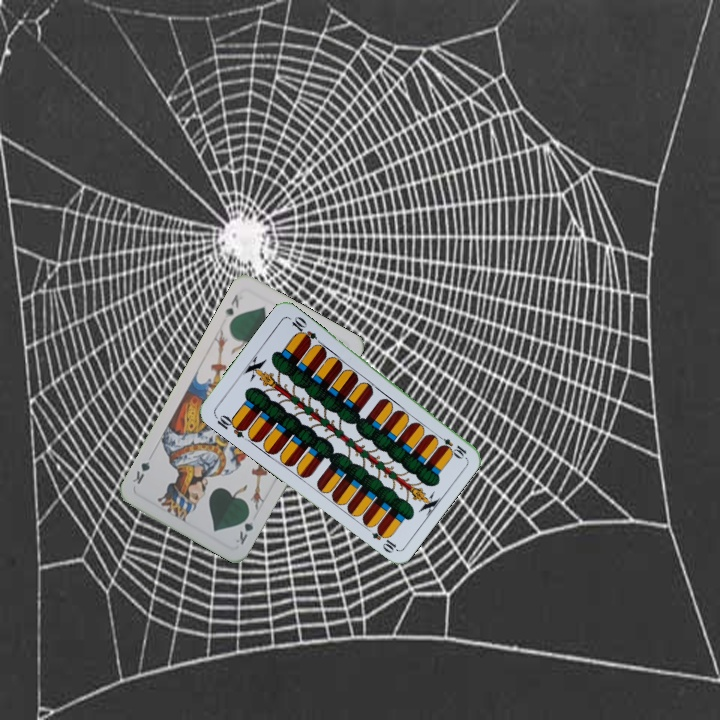E10: (211, 410, 249, 440), (432, 431, 469, 460)
GK: (231, 508, 256, 548), (220, 290, 242, 322)
